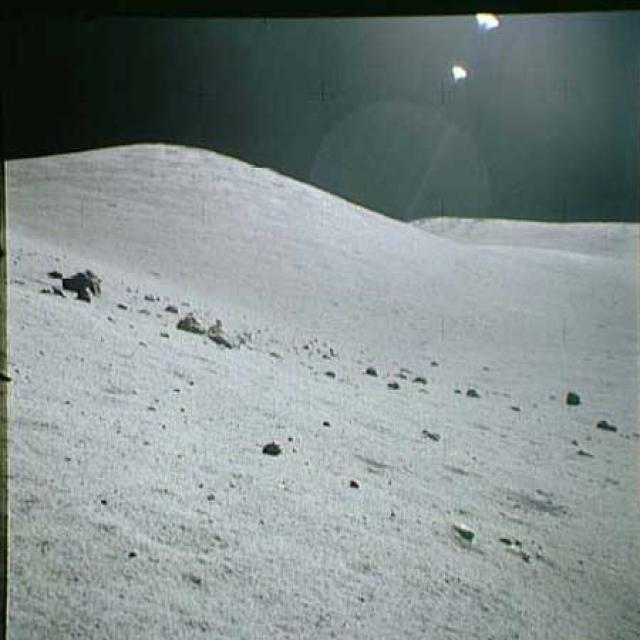rock: (58, 259, 103, 302), (207, 313, 235, 348), (174, 308, 206, 338), (258, 435, 283, 457), (456, 522, 477, 543), (562, 386, 582, 406), (597, 413, 616, 434), (414, 370, 426, 386), (467, 384, 480, 398), (367, 362, 377, 378)
